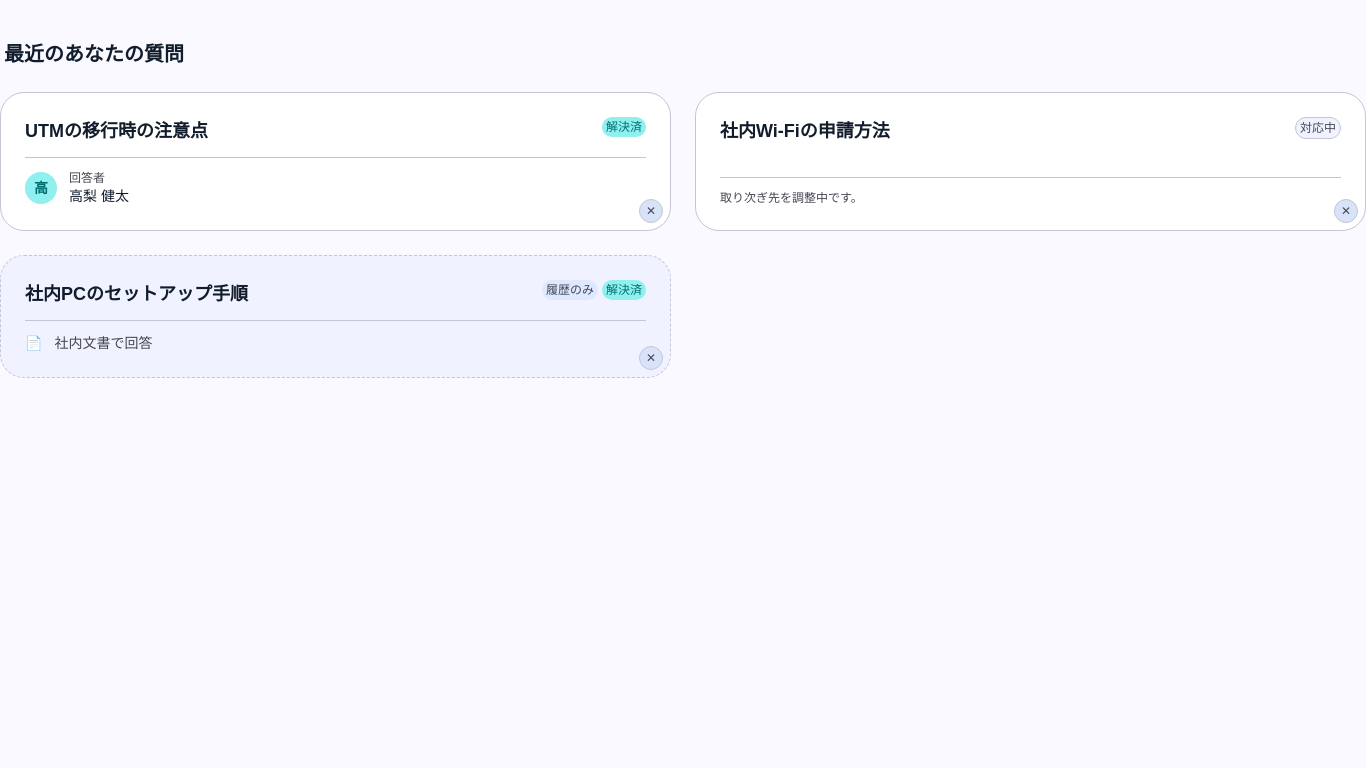
RecentQuestions › deletes a question after inline confirmation and drops it from the list
Expected: the heading "UTMの移行時の注意点" is shown, [25,117,208,145]
# First click only asks for confirmation — no delete call yet (not undoable).
Click the button named "「UTMの移行時の注意点」を削除".
click(651, 211)  # box [639,199,663,223]
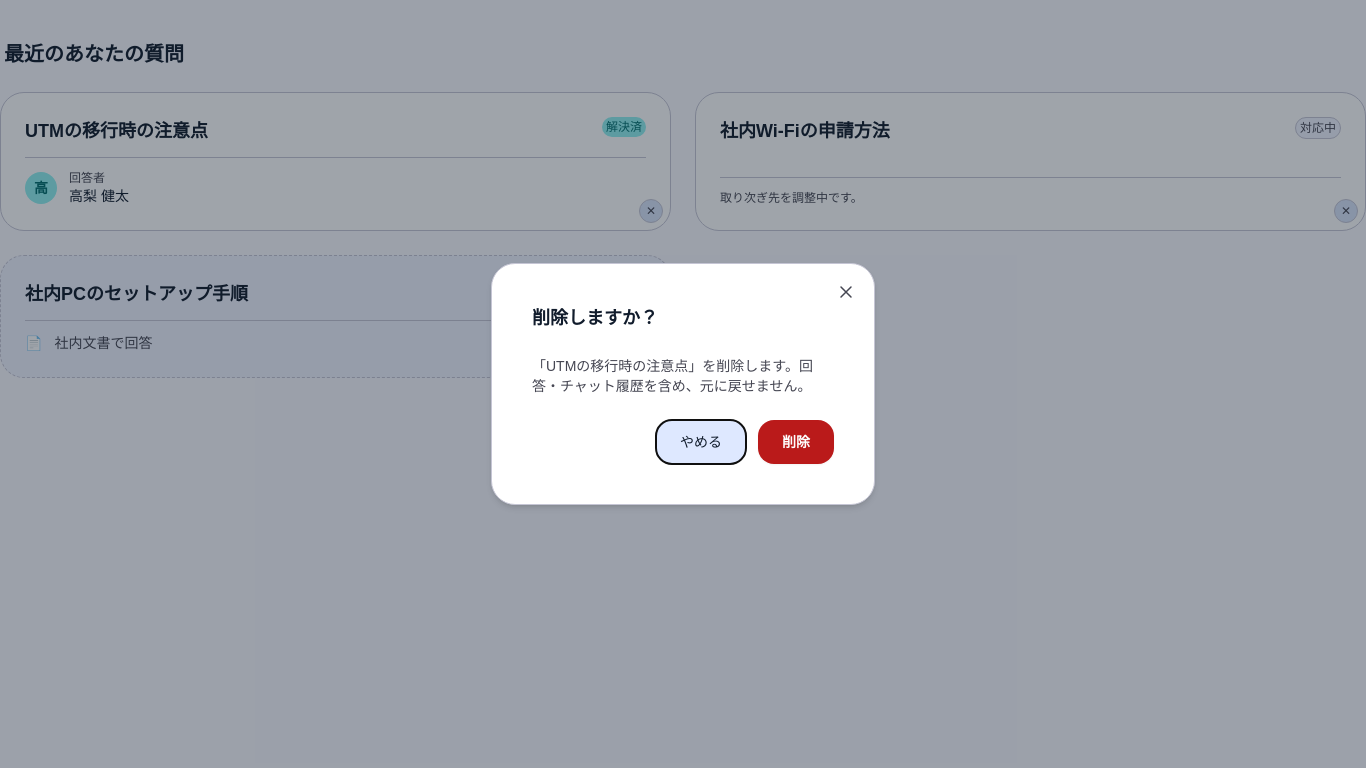
Expected: the heading "削除しますか？" is shown, [532,308,658,328]
Click the button "削除".
click(796, 442)  # box [758,420,834,464]
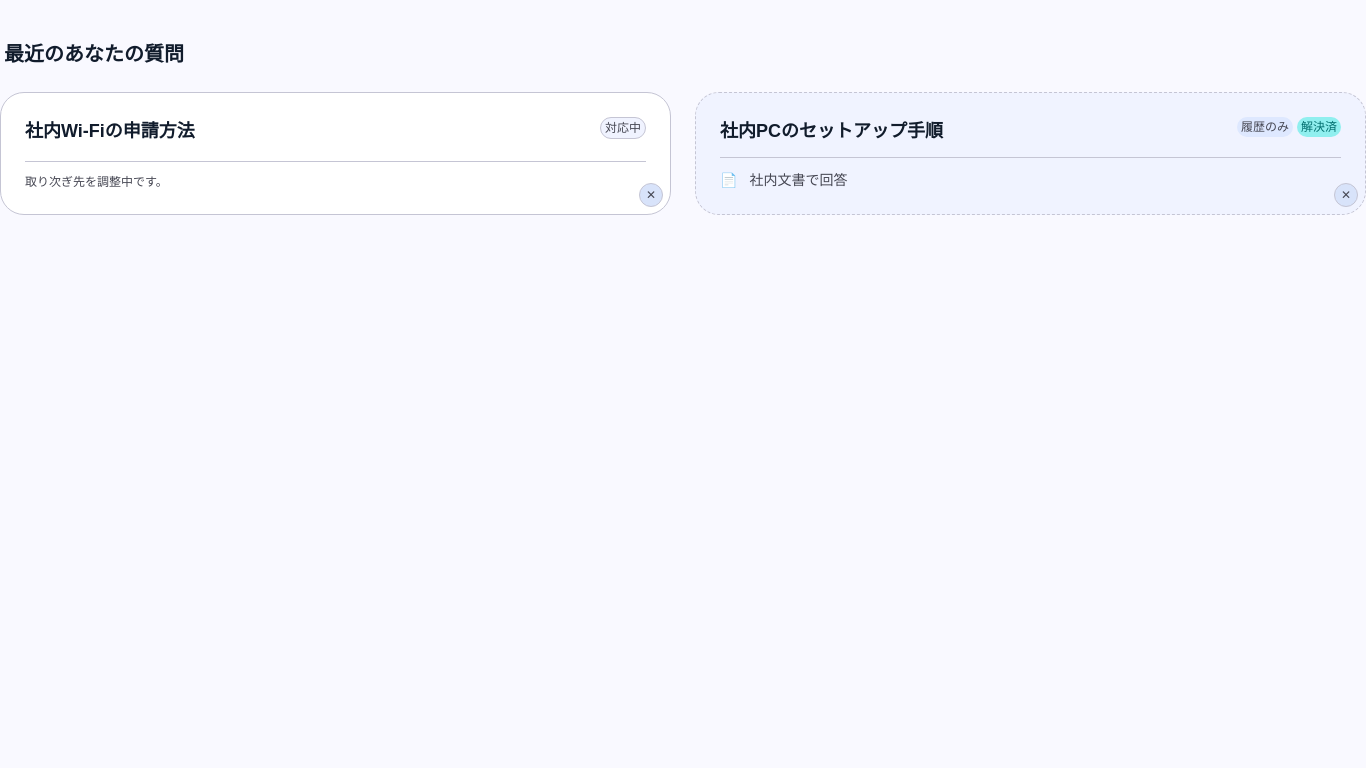
Expected: the heading "社内Wi-Fiの申請方法" is shown, [25,117,195,145]
Expected: the link "UTMの移行時の注意点" is gone
